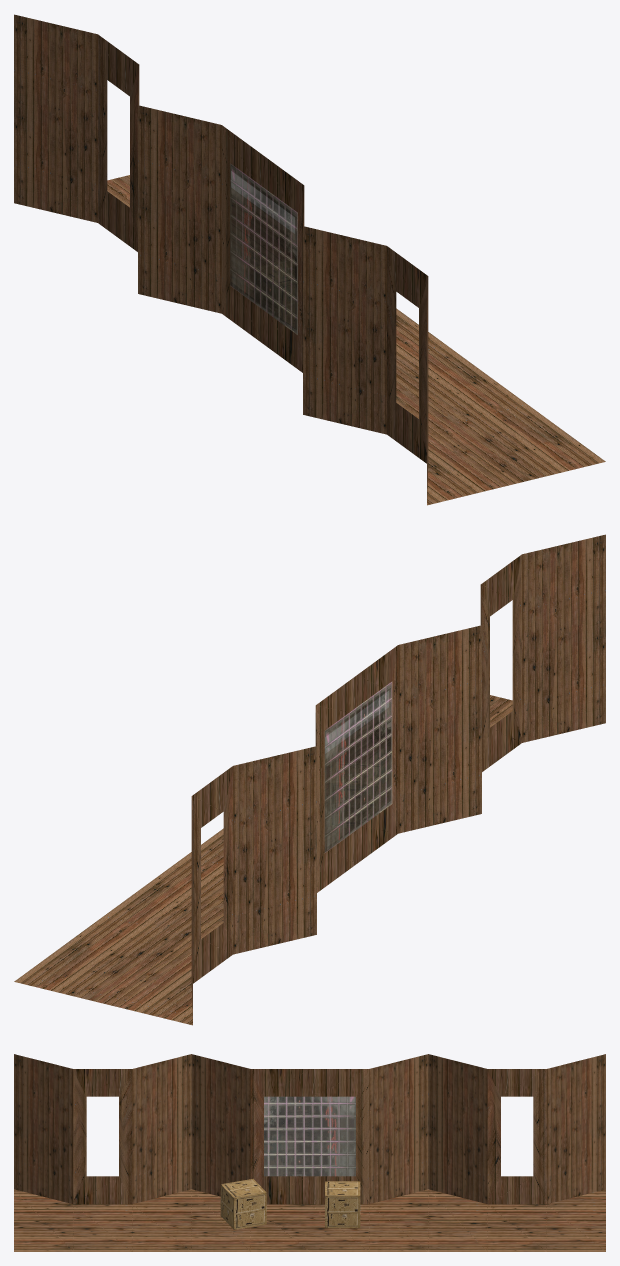
The model's file is woodbg1.glb.
3 views of the same model, one above another, from view 1: azimuth 30°, elevation 25°; view 2: azimuth 150°, elevation 25°; view 3: azimuth 270°, elevation 25° (orthographic). The views are drawn at different scales.
Parts seen in each view (by area): view 1: Plane, Plane.001; view 2: Plane, Plane.001; view 3: Plane, Plane.001, Cube.001, Cube.
Boxes of the visible parts, x1,y1,x2,y2 form: Plane: (14, 14, 605, 505); Plane.001: (230, 163, 297, 334); Plane: (14, 534, 605, 1025); Plane.001: (324, 681, 392, 852); Plane: (14, 1054, 605, 1251); Plane.001: (264, 1096, 355, 1176); Cube.001: (220, 1178, 266, 1229); Cube: (325, 1181, 360, 1227).
Size of the model in its own units: 2 by 2.01 by 7.99.
Materials: 3 (3 with a texture image).
